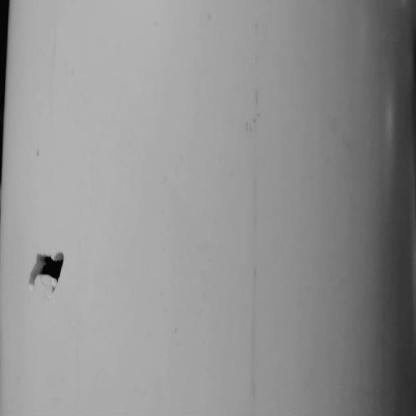kongdong: (26, 230, 68, 301)
